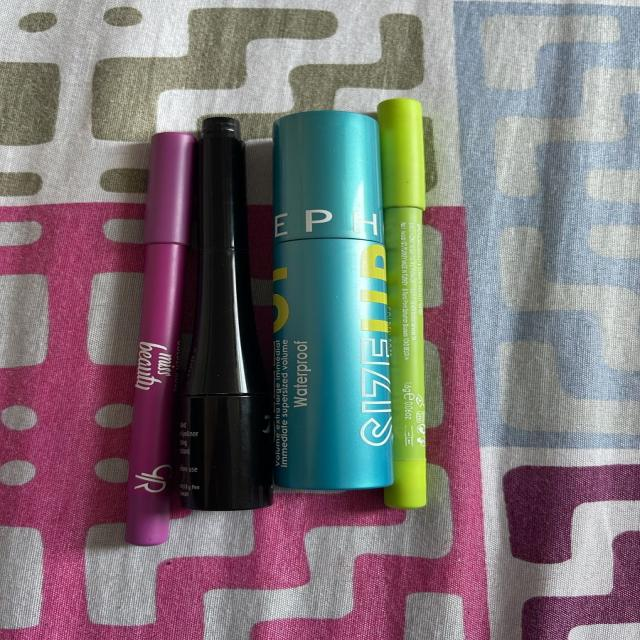lip liner: (389, 99, 496, 530)
mascara: (126, 103, 266, 548), (278, 111, 384, 492)
